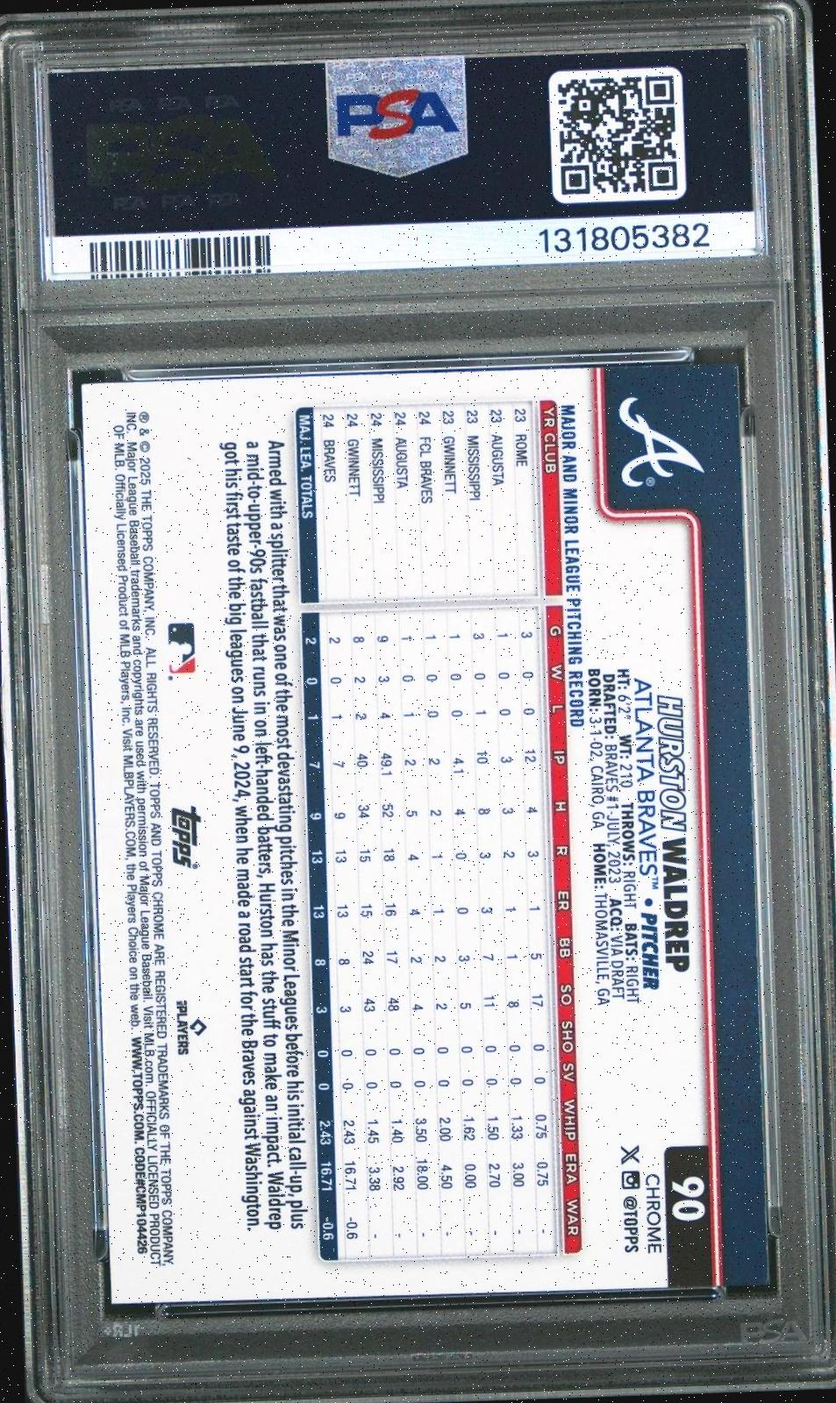card-2UtV: (80, 362, 770, 1305)
